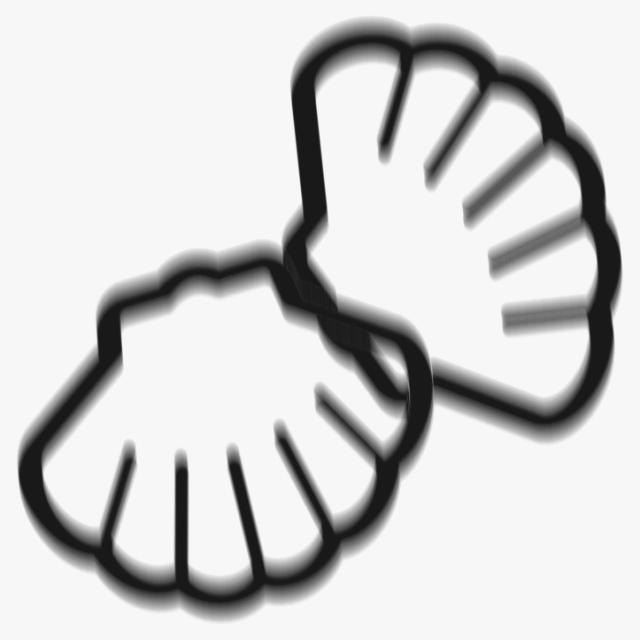shell: (12, 221, 446, 633), (257, 9, 629, 457)
